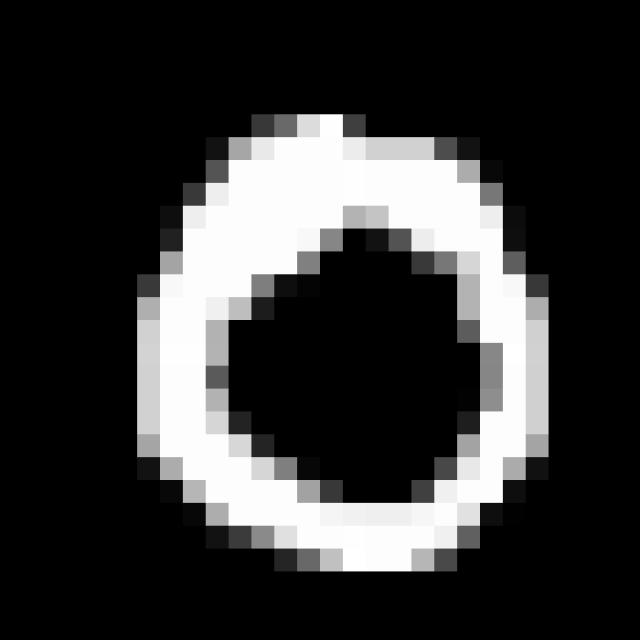zero -0-: (105, 94, 578, 586)
